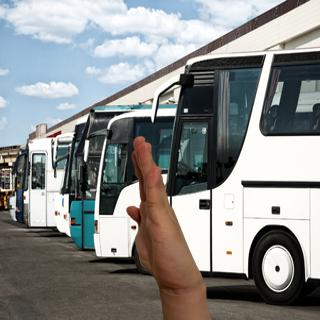RIGHT: (118, 132, 212, 296)
